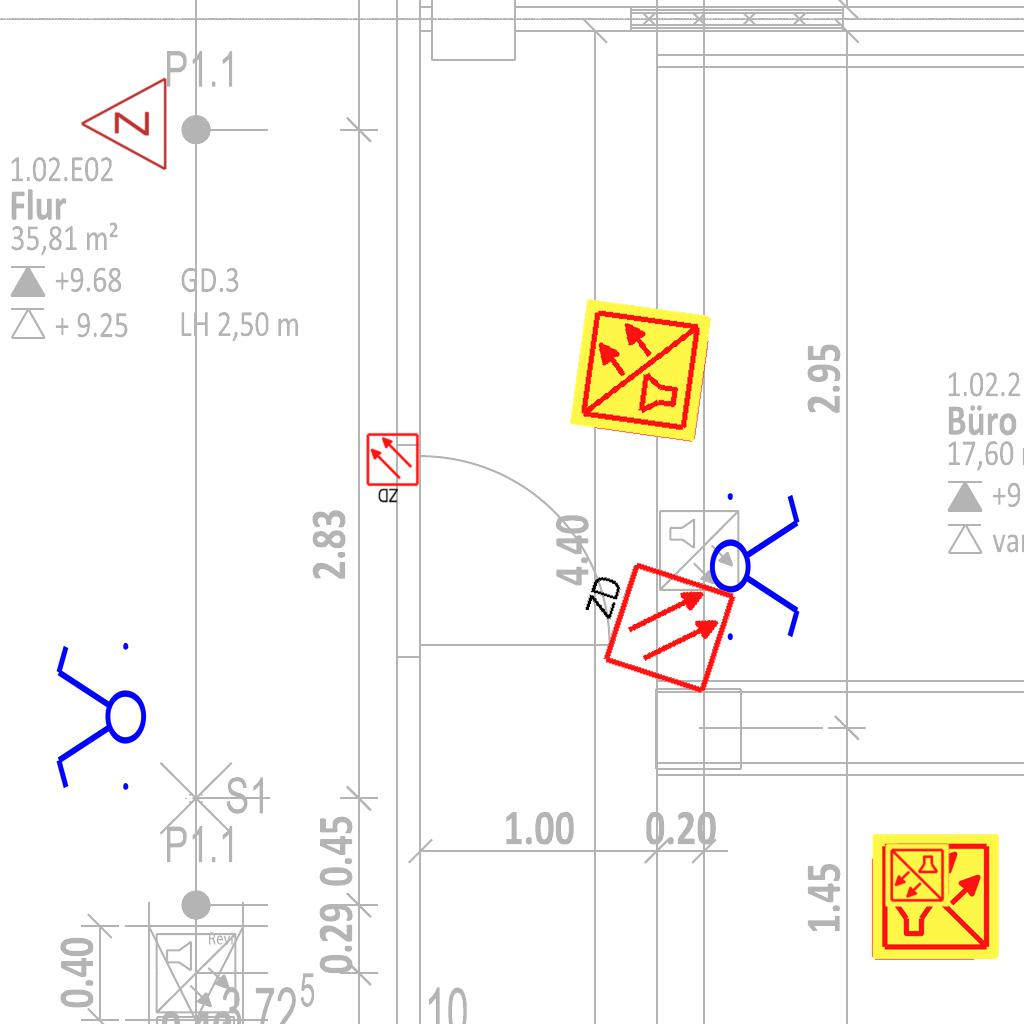OKW_Multisensormelder_(Kombination_optischer_Rauch-Kahlenmonoxid_Waerme-Melder): (566, 295, 716, 445), (870, 831, 1002, 963), (884, 842, 950, 908)
Serienschalter: (708, 481, 804, 649), (52, 634, 148, 802)
ZD_Melder_in_Zwischendecke_mit_Revisionsoeffnung_mind_40_x_40_cm: (562, 546, 740, 701), (365, 432, 422, 506)
Zimmersignalleuchte: (74, 76, 174, 174)
